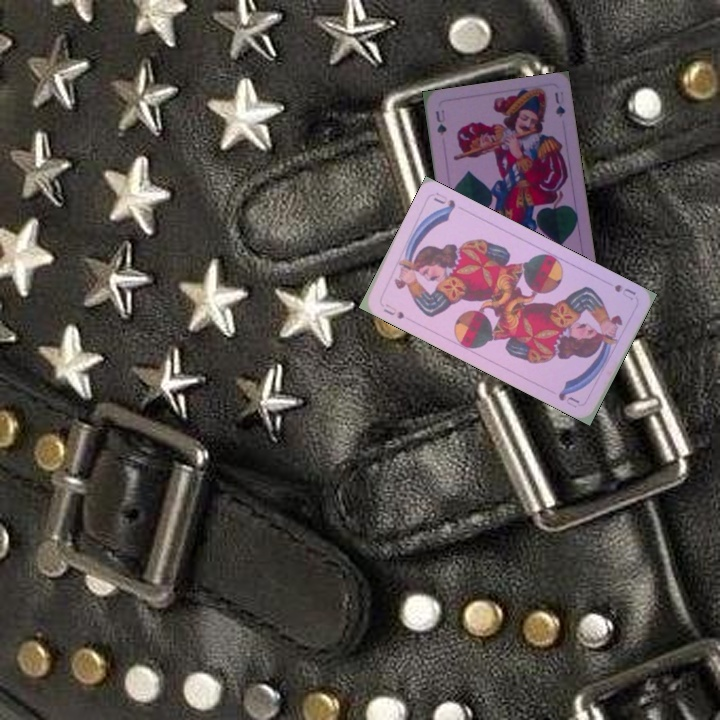GU: (432, 105, 449, 138)
SU: (610, 280, 639, 303), (379, 300, 407, 322)
